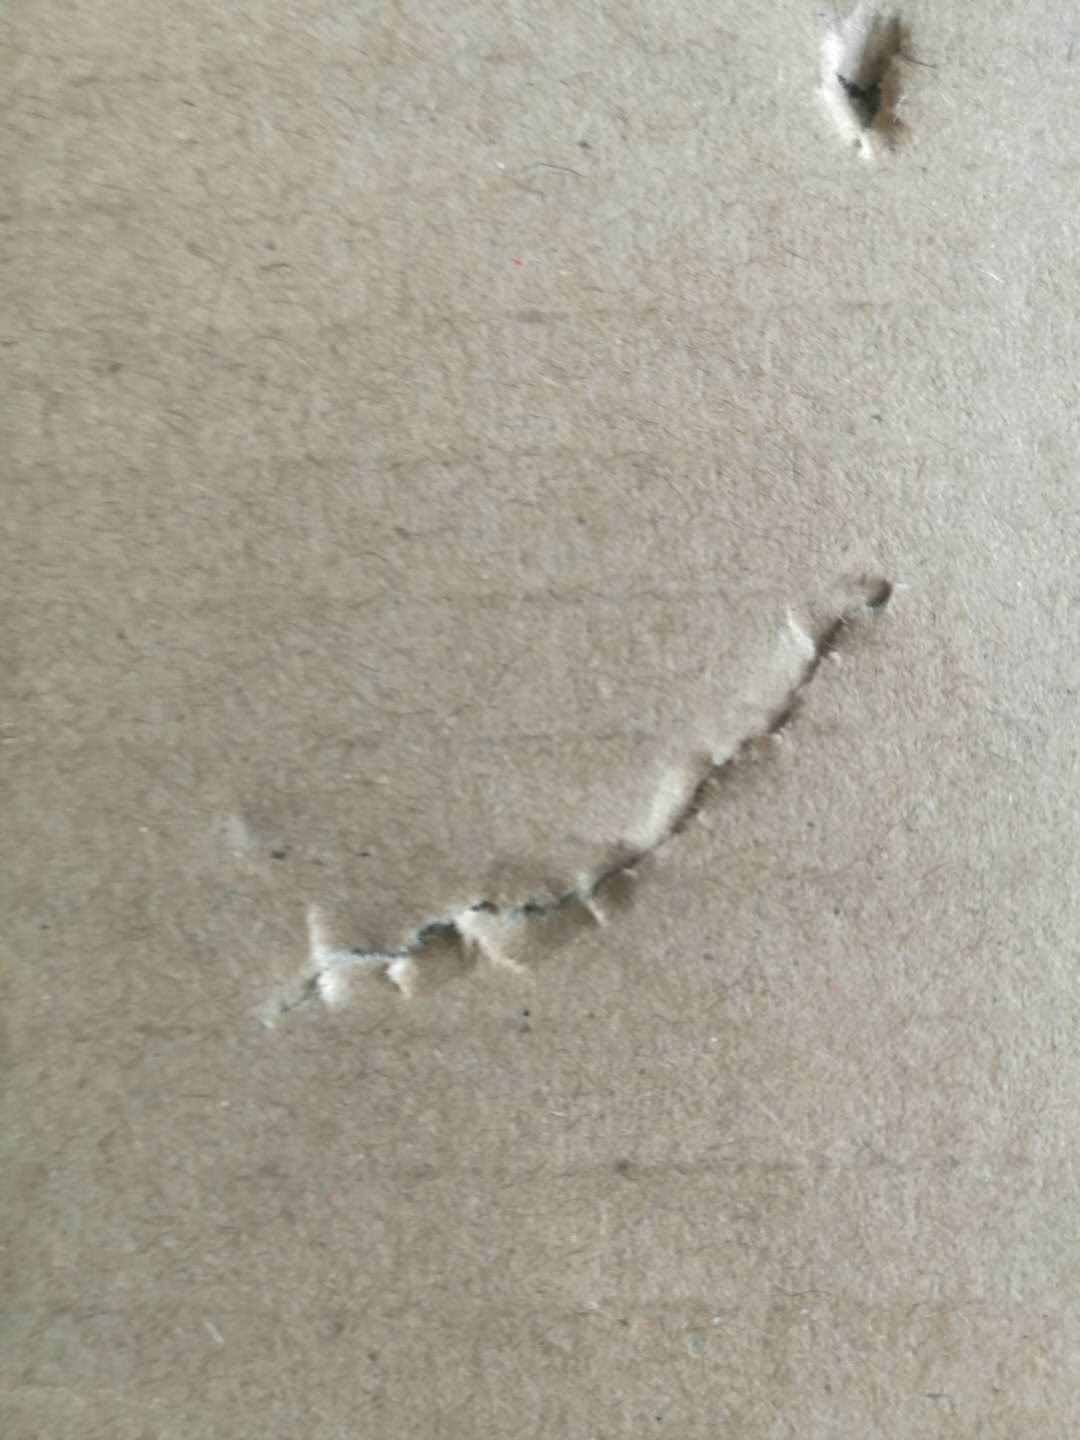defect: (195, 545, 940, 1045), (805, 2, 951, 176)
